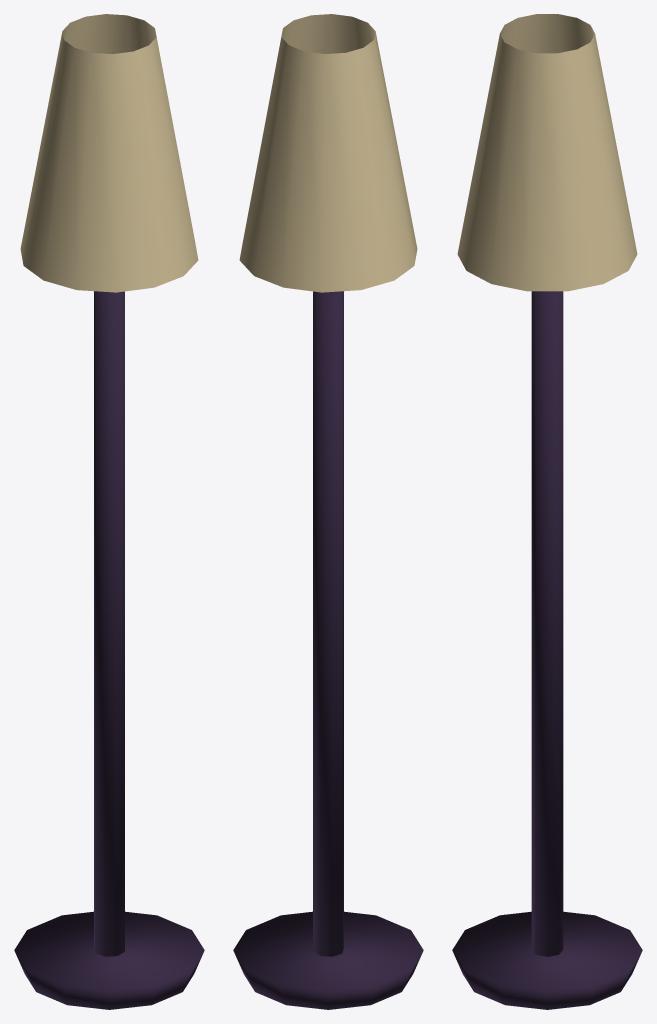
File: obsidian_lamp_v0.glb
3 views of the same model, side by side, from view 1: azimuth 30°, elevation 25°; view 2: azimuth 150°, elevation 25°; view 3: azimuth 270°, elevation 25° (orthographic).
Visible parts, largest first — view 1: obsidian_lamp_v0; view 2: obsidian_lamp_v0; view 3: obsidian_lamp_v0.
Part boxes in pixels (left/top/right/bottom): obsidian_lamp_v0: left=14, top=14, right=204, bottom=1009; obsidian_lamp_v0: left=233, top=14, right=423, bottom=1009; obsidian_lamp_v0: left=452, top=14, right=642, bottom=1009.
Size of the model in its own units: 0.36 by 1.96 by 0.36.
